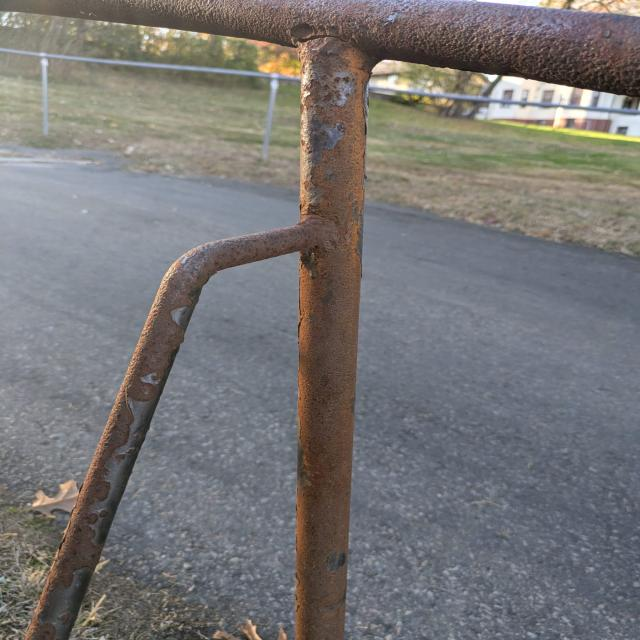Filiform Corrosion: (31, 267, 203, 640), (301, 39, 373, 219)
Uniform Corrosion: (156, 139, 365, 640), (3, 1, 640, 122)
